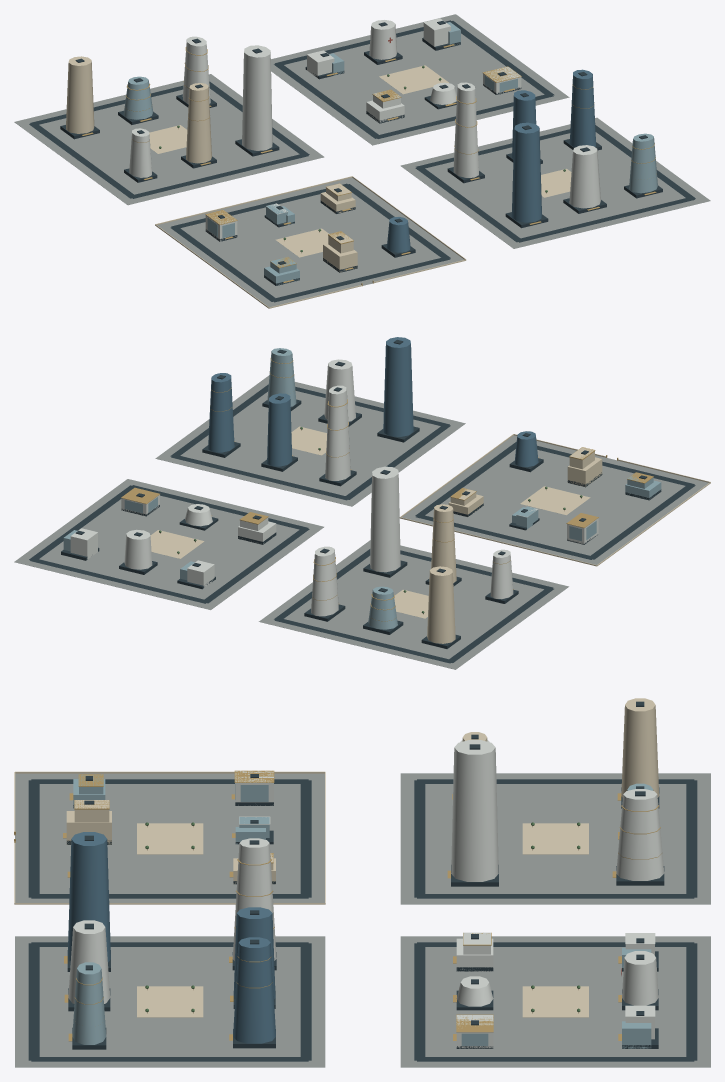
File: GC-TILE-14-22.glb
3 renders of one model, top to bottom at view 1: azimuth 30°, elevation 25°; view 2: azimuth 150°, elevation 25°; view 3: azimuth 270°, elevation 25°, orthographic. The views are drawn at different scales.
Visible parts, largest first — view 1: GC-TILE-14-22-paving, GC-TILE-14-22-dark, GC-TILE-14-22-white, GC-TILE-14-22-ivory, GC-TILE-14-22-blue, GC-TILE-14-22-glass, GC-TILE-14-22-gold; view 2: GC-TILE-14-22-paving, GC-TILE-14-22-dark, GC-TILE-14-22-white, GC-TILE-14-22-ivory, GC-TILE-14-22-blue, GC-TILE-14-22-glass, GC-TILE-14-22-gold; view 3: GC-TILE-14-22-paving, GC-TILE-14-22-dark, GC-TILE-14-22-white, GC-TILE-14-22-ivory, GC-TILE-14-22-blue, GC-TILE-14-22-glass, GC-TILE-14-22-gold.
Part boxes in pixels (x1=…): GC-TILE-14-22-paving: x1=14, y1=14, x2=710, y2=307; GC-TILE-14-22-dark: x1=29, y1=20, x2=695, y2=302; GC-TILE-14-22-white: x1=129, y1=18, x2=600, y2=241; GC-TILE-14-22-ivory: x1=66, y1=56, x2=571, y2=308; GC-TILE-14-22-blue: x1=387, y1=69, x2=595, y2=252; GC-TILE-14-22-glass: x1=123, y1=22, x2=657, y2=285; GC-TILE-14-22-gold: x1=82, y1=44, x2=656, y2=286; GC-TILE-14-22-paving: x1=14, y1=375, x2=708, y2=669; GC-TILE-14-22-dark: x1=29, y1=339, x2=695, y2=663; GC-TILE-14-22-white: x1=70, y1=359, x2=598, y2=616; GC-TILE-14-22-ivory: x1=150, y1=426, x2=710, y2=643; GC-TILE-14-22-blue: x1=208, y1=337, x2=538, y2=467; GC-TILE-14-22-glass: x1=63, y1=348, x2=661, y2=629; GC-TILE-14-22-gold: x1=121, y1=358, x2=653, y2=621; GC-TILE-14-22-paving: x1=15, y1=773, x2=710, y2=1067; GC-TILE-14-22-dark: x1=28, y1=701, x2=697, y2=1061; GC-TILE-14-22-white: x1=68, y1=740, x2=664, y2=1048; GC-TILE-14-22-ivory: x1=14, y1=698, x2=659, y2=1017; GC-TILE-14-22-blue: x1=67, y1=832, x2=275, y2=1043; GC-TILE-14-22-glass: x1=72, y1=774, x2=653, y2=1048; GC-TILE-14-22-gold: x1=14, y1=770, x2=661, y2=1041.
Size of the model in its own units: 758 by 158 by 759.
